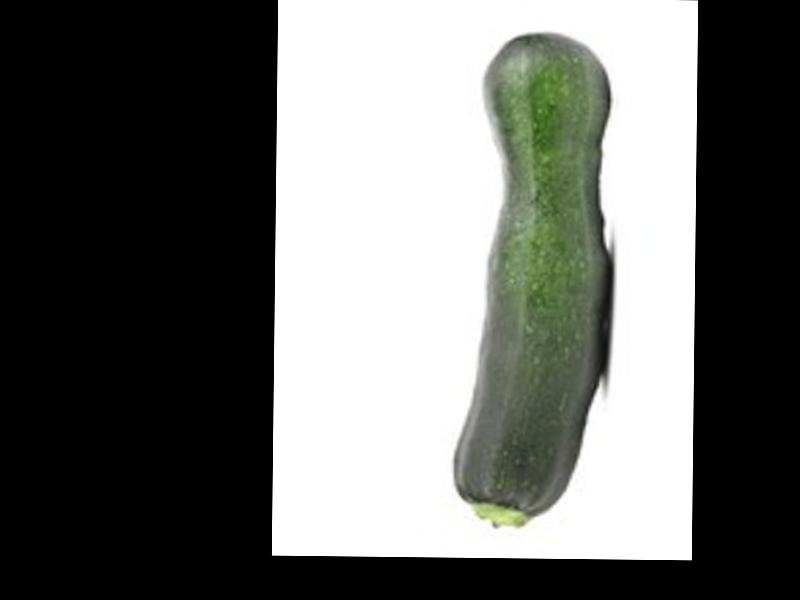Cucumber: (451, 32, 613, 530)
